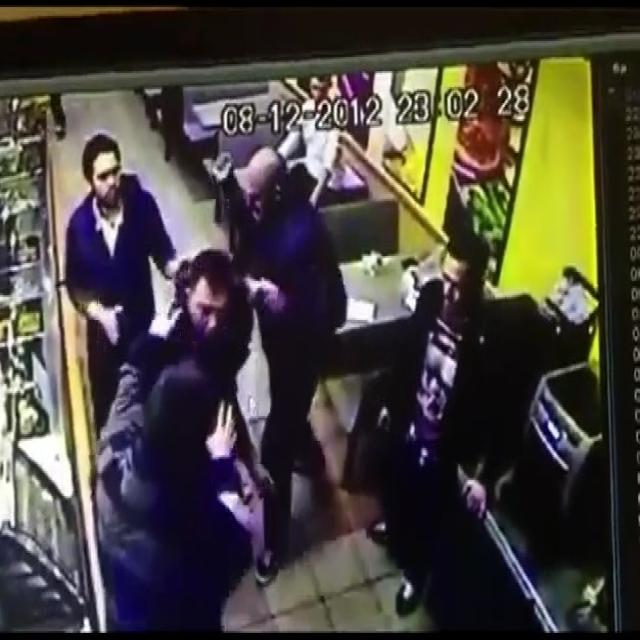fight: (96, 245, 252, 640)
